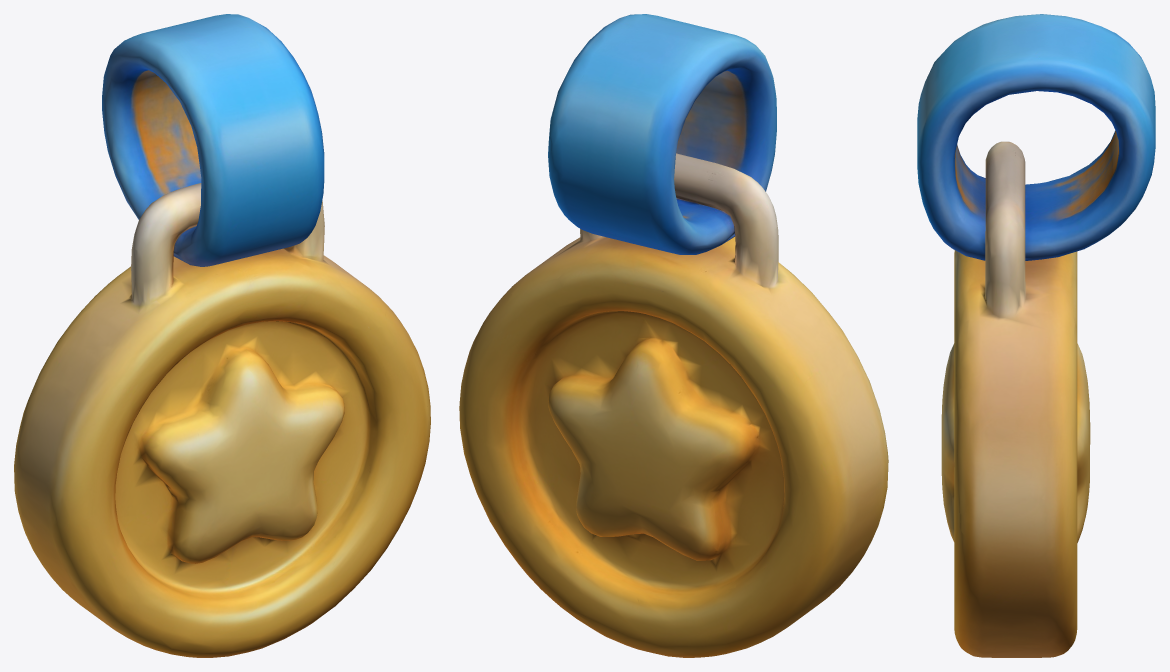
The model's file is neck-medal.glb.
The picture shows the model from 3 angles, left to right: view 1: azimuth 30°, elevation 25°; view 2: azimuth 150°, elevation 25°; view 3: azimuth 270°, elevation 25°; orthographic projection. The views are drawn at different scales.
Parts seen in each view (by area): view 1: tripo_node_4ddd5260-b1b7-48c9-a7aa-2a99a43f418a; view 2: tripo_node_4ddd5260-b1b7-48c9-a7aa-2a99a43f418a; view 3: tripo_node_4ddd5260-b1b7-48c9-a7aa-2a99a43f418a.
Boxes of the visible parts, bbox=[...] form: tripo_node_4ddd5260-b1b7-48c9-a7aa-2a99a43f418a: bbox=[14, 14, 430, 657]; tripo_node_4ddd5260-b1b7-48c9-a7aa-2a99a43f418a: bbox=[459, 14, 888, 657]; tripo_node_4ddd5260-b1b7-48c9-a7aa-2a99a43f418a: bbox=[917, 14, 1155, 657].
Size of the model in its own units: 0.6602 by 1 by 0.3579.
Materials: 1 (1 with a texture image).
